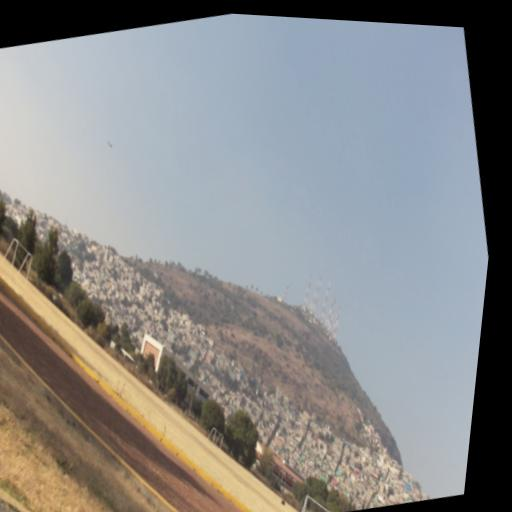drones: (106, 139, 115, 151)
